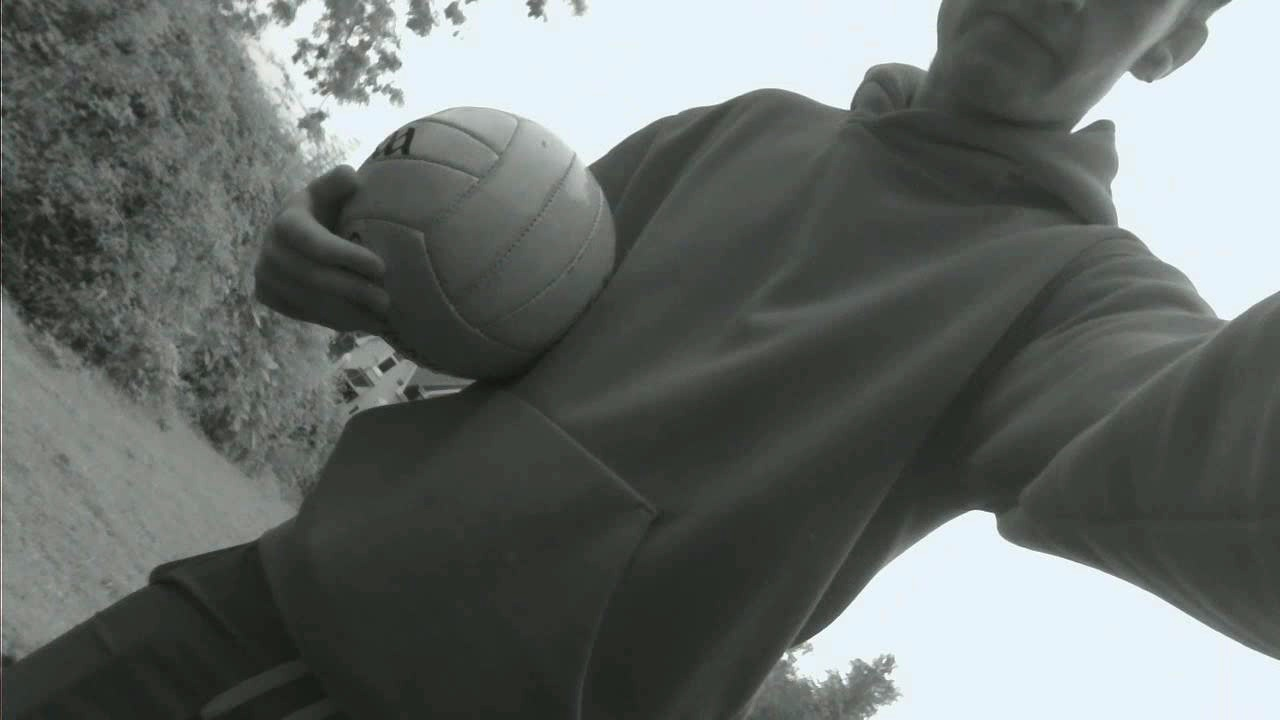Football-Spotter: (338, 108, 614, 379)
